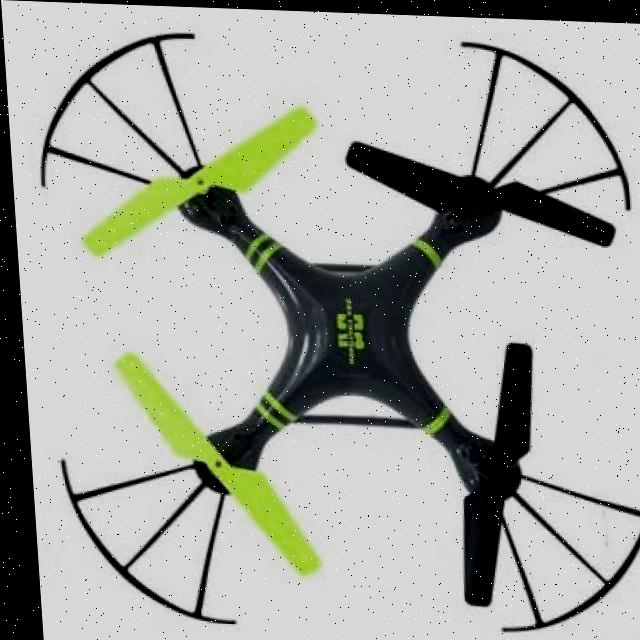drone: (27, 11, 640, 640)
